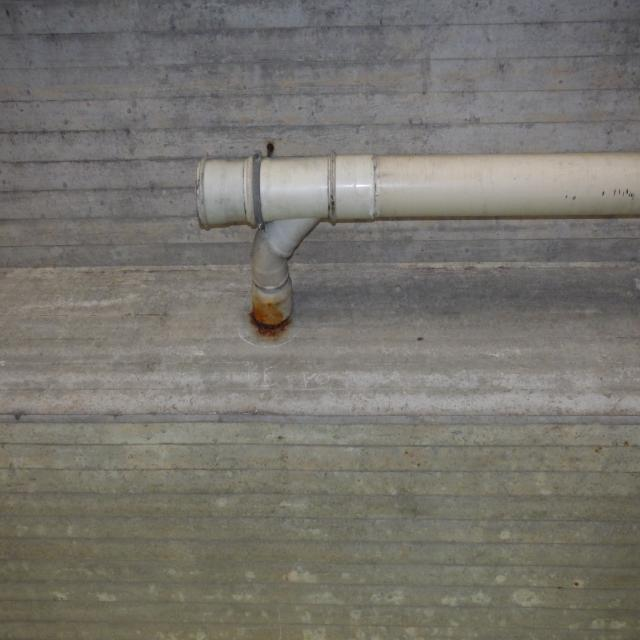corrosion: (245, 294, 299, 346)
